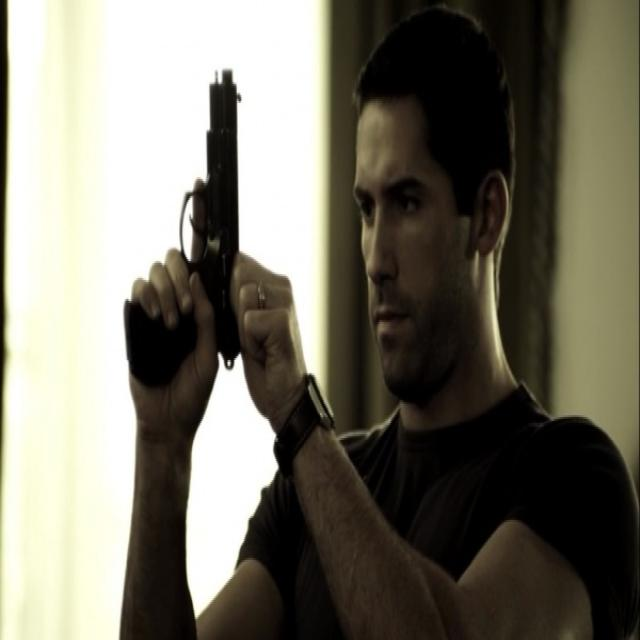weapons: (123, 54, 269, 392)
